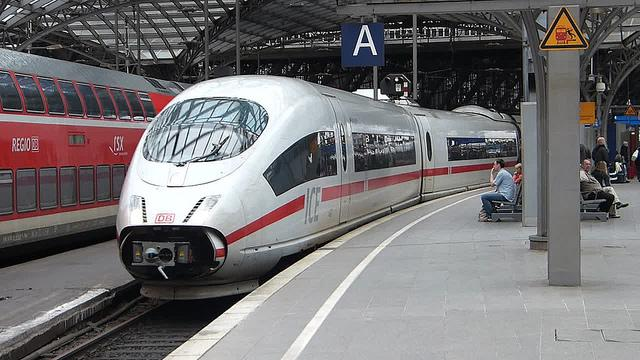Train: (113, 76, 522, 299), (1, 47, 196, 249)
